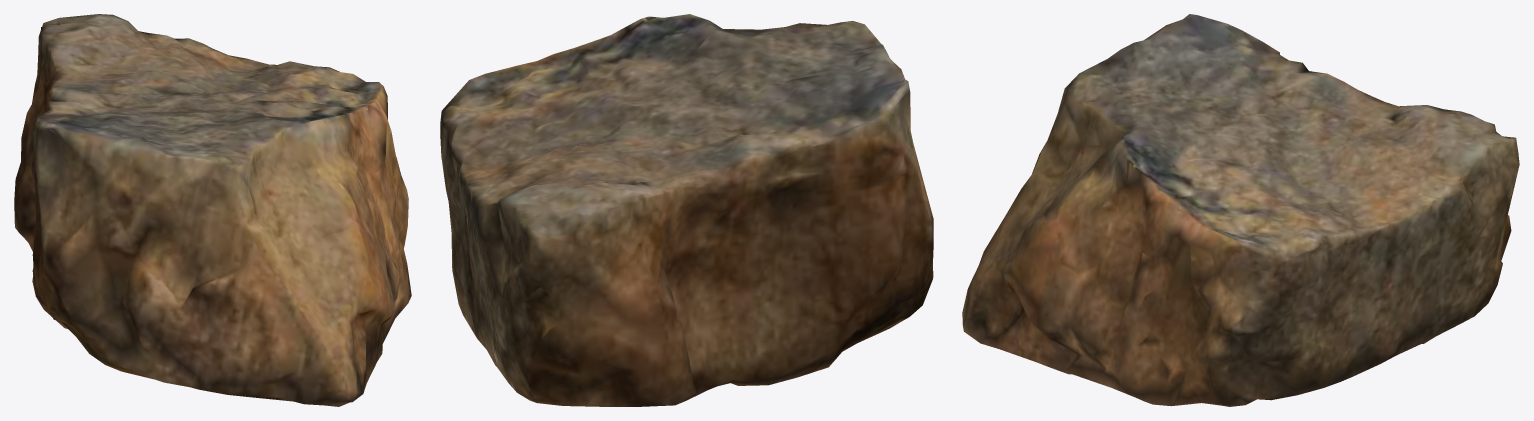
Rendered from namaqualand_boulder_03_lod1.glb.
The picture shows the model from 3 angles, left to right: view 1: azimuth 30°, elevation 25°; view 2: azimuth 150°, elevation 25°; view 3: azimuth 270°, elevation 25°; orthographic projection. The views are drawn at different scales.
Parts seen in each view (by area): view 1: boulder_03_LOD0; view 2: boulder_03_LOD0; view 3: boulder_03_LOD0.
Part boxes in pixels (x1,y1,x2,y2): boulder_03_LOD0: (14, 14, 411, 406); boulder_03_LOD0: (440, 14, 933, 406); boulder_03_LOD0: (962, 14, 1519, 406).
Bounding box in the file's own units: 2.4 × 1.47 × 3.06.
1 material, 1 textured.
